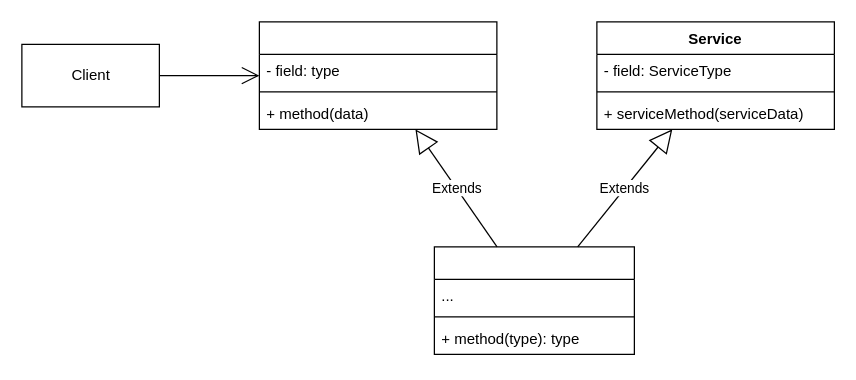
The diagram is 856 pixels wide and 380 high, and some of its shapes have lost their labels. Each missing label, with the box of its shape:
Classname: (433, 246, 634, 354)
ClientExistingClass: (258, 21, 497, 129)
